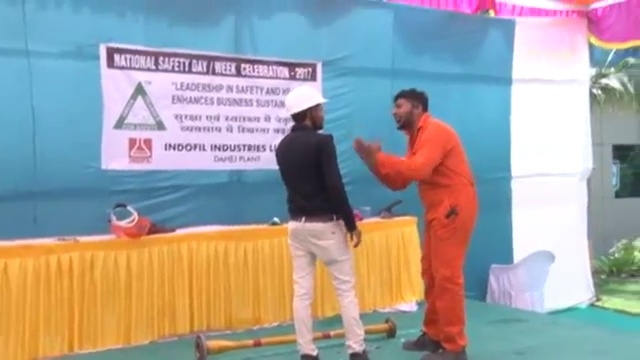helmet: (284, 86, 328, 118)
helmet_off: (392, 88, 430, 132)
helmet_on: (282, 85, 327, 132)
person: (353, 87, 479, 360), (271, 84, 370, 360)
